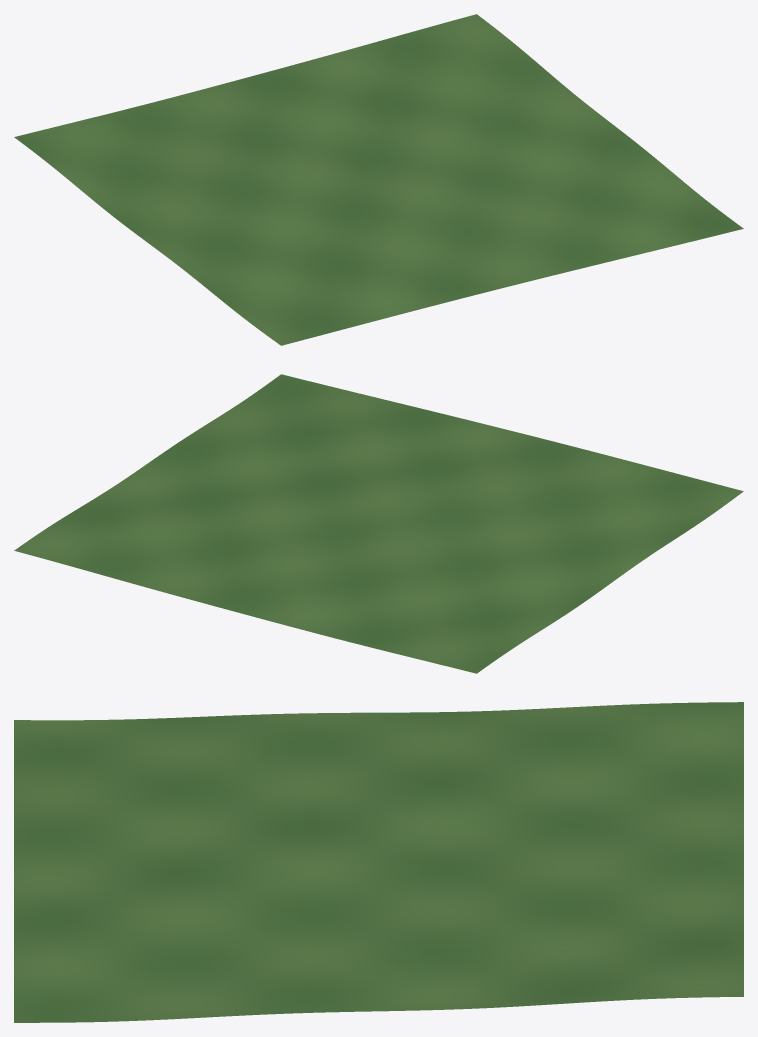
Rendered from chunk_7_9.glb.
3 renders of one model, top to bottom at view 1: azimuth 30°, elevation 25°; view 2: azimuth 150°, elevation 25°; view 3: azimuth 270°, elevation 25°, orthographic. The views are drawn at different scales.
Size of the model in its own units: 512 by 24.73 by 512.
